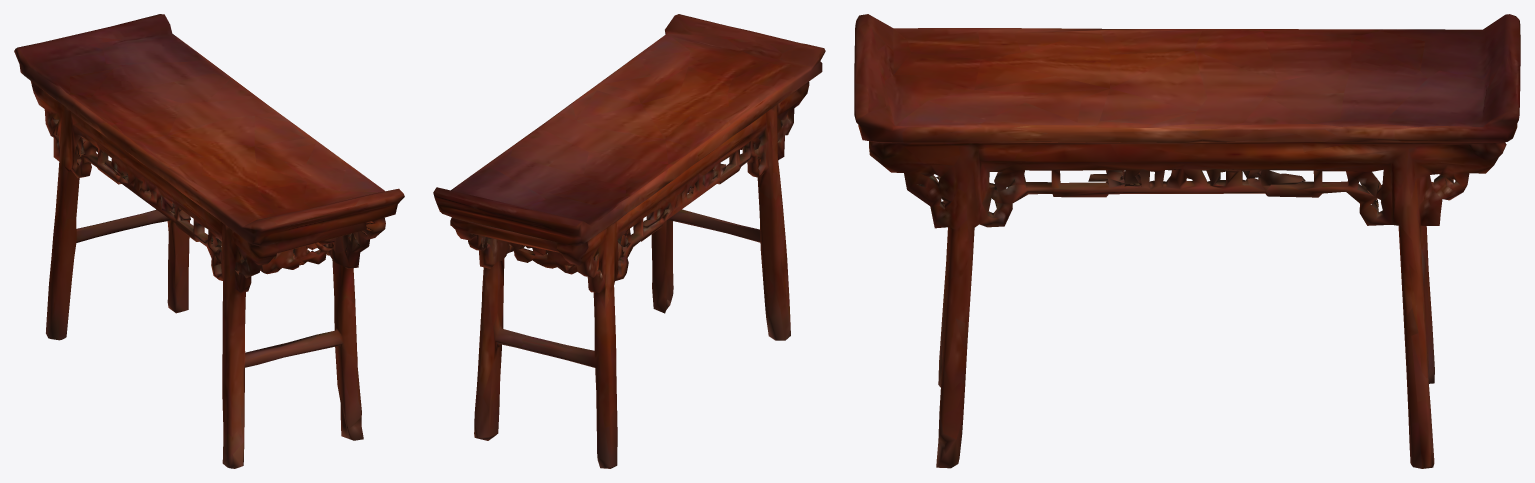
Rendered from an_qiaotou.glb.
3 views of the same model, side by side, from view 1: azimuth 30°, elevation 25°; view 2: azimuth 150°, elevation 25°; view 3: azimuth 270°, elevation 25° (orthographic). The views are drawn at different scales.
Visible parts, largest first — view 1: tripo_node_8df08d2a-5bcf-4f88-be2e-9bf1abe076fb; view 2: tripo_node_8df08d2a-5bcf-4f88-be2e-9bf1abe076fb; view 3: tripo_node_8df08d2a-5bcf-4f88-be2e-9bf1abe076fb.
Boxes of the visible parts, left/top/right/bottom form: tripo_node_8df08d2a-5bcf-4f88-be2e-9bf1abe076fb: left=14, top=14, right=404, bottom=468; tripo_node_8df08d2a-5bcf-4f88-be2e-9bf1abe076fb: left=433, top=14, right=825, bottom=468; tripo_node_8df08d2a-5bcf-4f88-be2e-9bf1abe076fb: left=854, top=14, right=1520, bottom=468.
Size of the model in its own units: 0.5775 by 1 by 1.65.
Materials: 1 (1 with a texture image).
